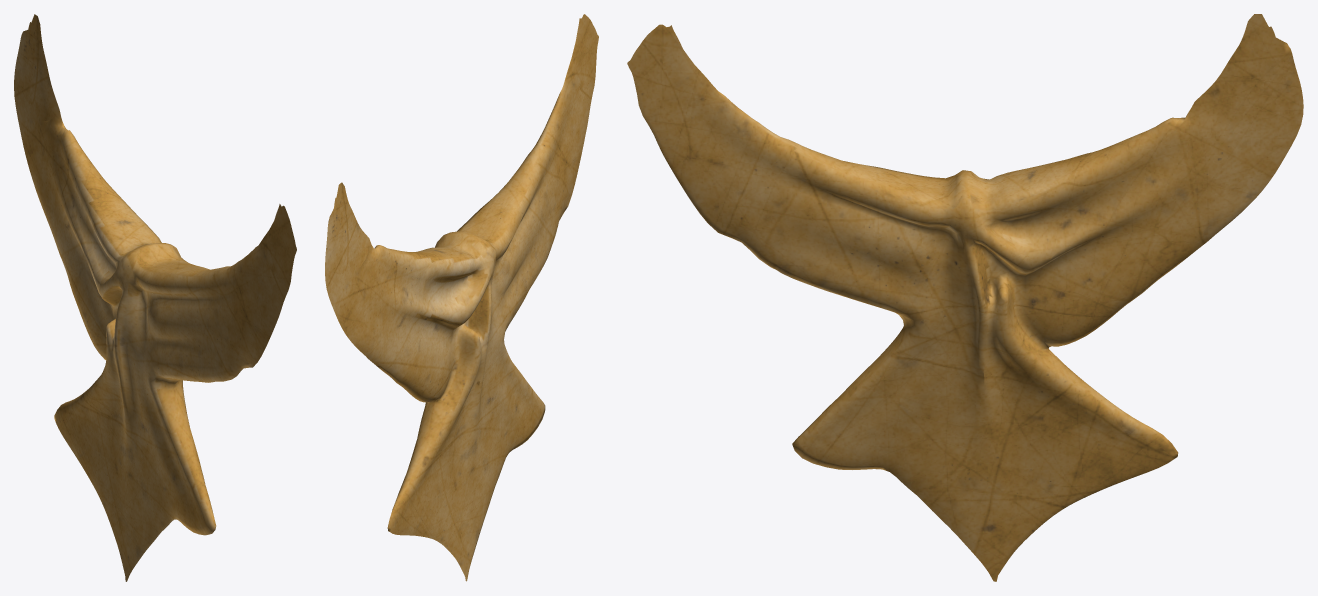
File: Symbol Bird.fbx
The picture shows the model from 3 angles, left to right: view 1: azimuth 30°, elevation 25°; view 2: azimuth 150°, elevation 25°; view 3: azimuth 270°, elevation 25°; orthographic projection. The views are drawn at different scales.
Parts seen in each view (by area): view 1: Symbol Bird_Baked; view 2: Symbol Bird_Baked; view 3: Symbol Bird_Baked.
Boxes of the visible parts, x1,y1,x2,y2 form: Symbol Bird_Baked: [14, 14, 296, 581]; Symbol Bird_Baked: [325, 14, 598, 581]; Symbol Bird_Baked: [627, 14, 1303, 581].
Bounding box in the file's own units: 11.09 × 83.13 × 87.93.
Materials: 1 (1 with a texture image).
